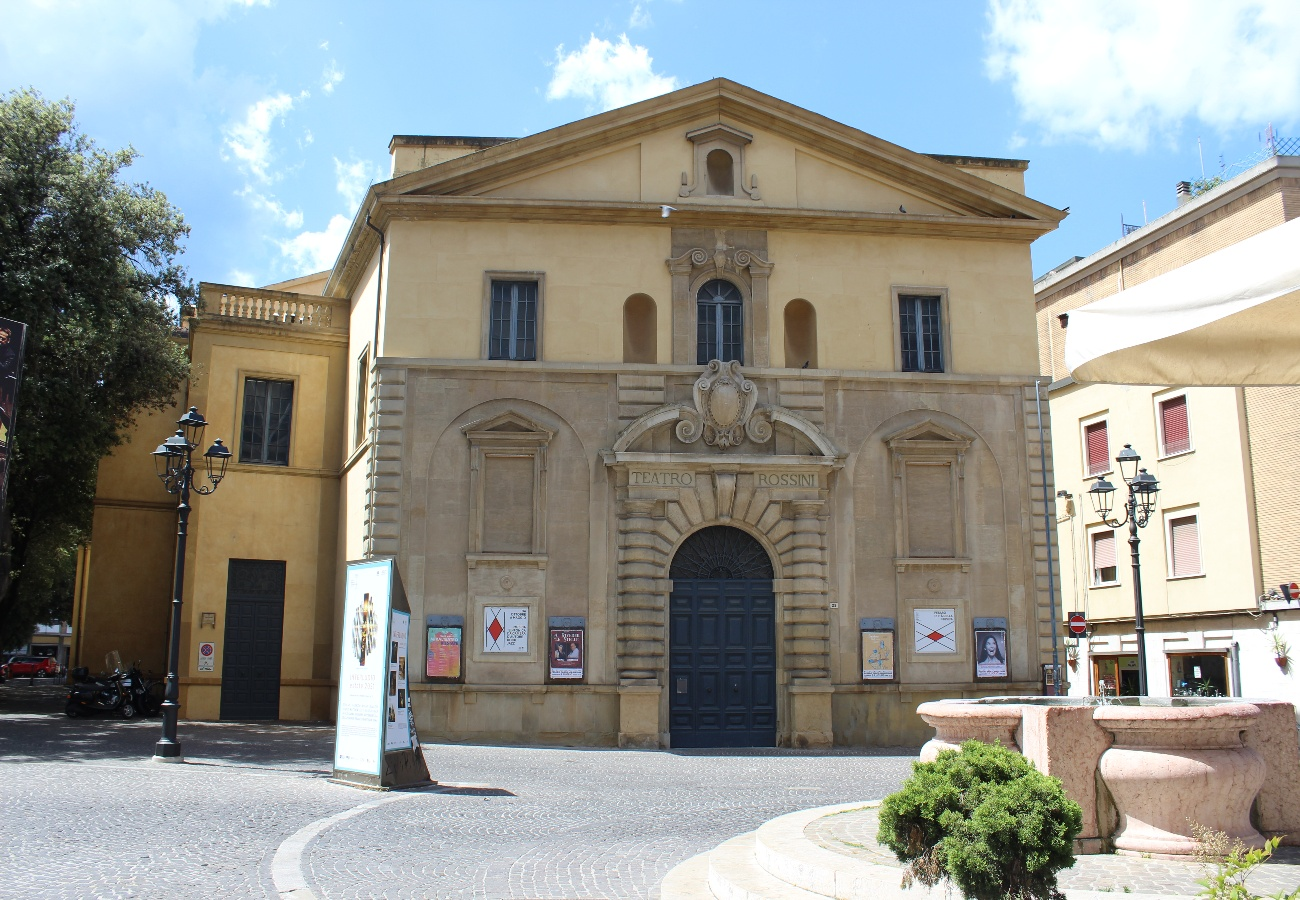Teatro Rossini: (381, 80, 1074, 755)
